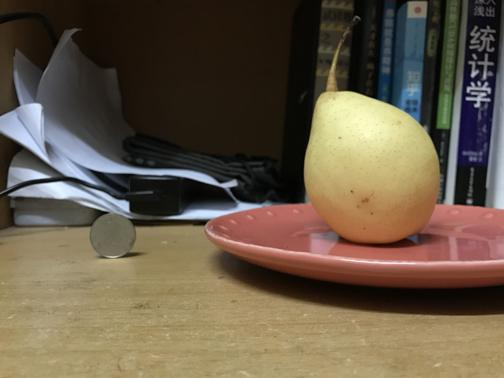coin: (90, 212, 138, 259)
pear: (303, 91, 442, 243)
